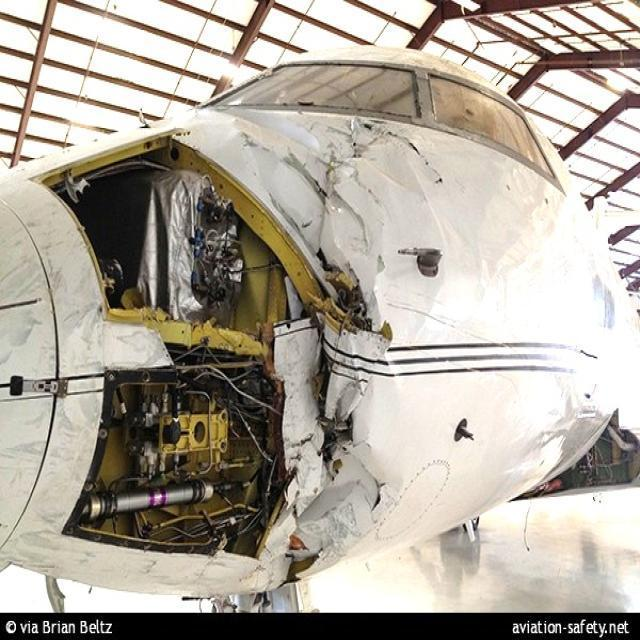crack: (356, 121, 446, 185), (338, 441, 389, 515)
